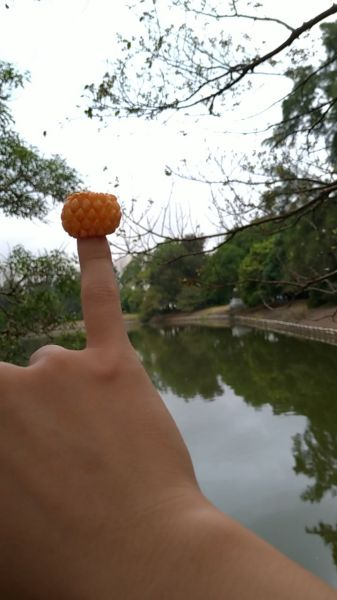eggs: (61, 192, 123, 237)
